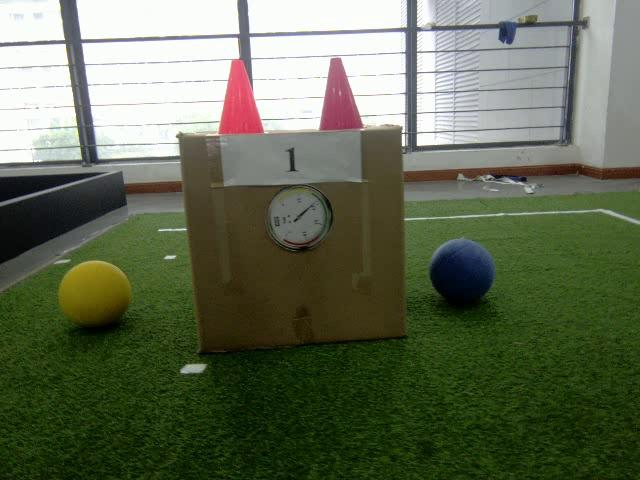1: (281, 145, 301, 174)
Dashboard: (264, 182, 334, 253)
blue_ball: (426, 237, 495, 308)
orange_barrel: (214, 57, 268, 135)
red_barrel: (314, 54, 366, 131)
ssi: (273, 213, 281, 229)
yellow_ball: (57, 259, 133, 331)
